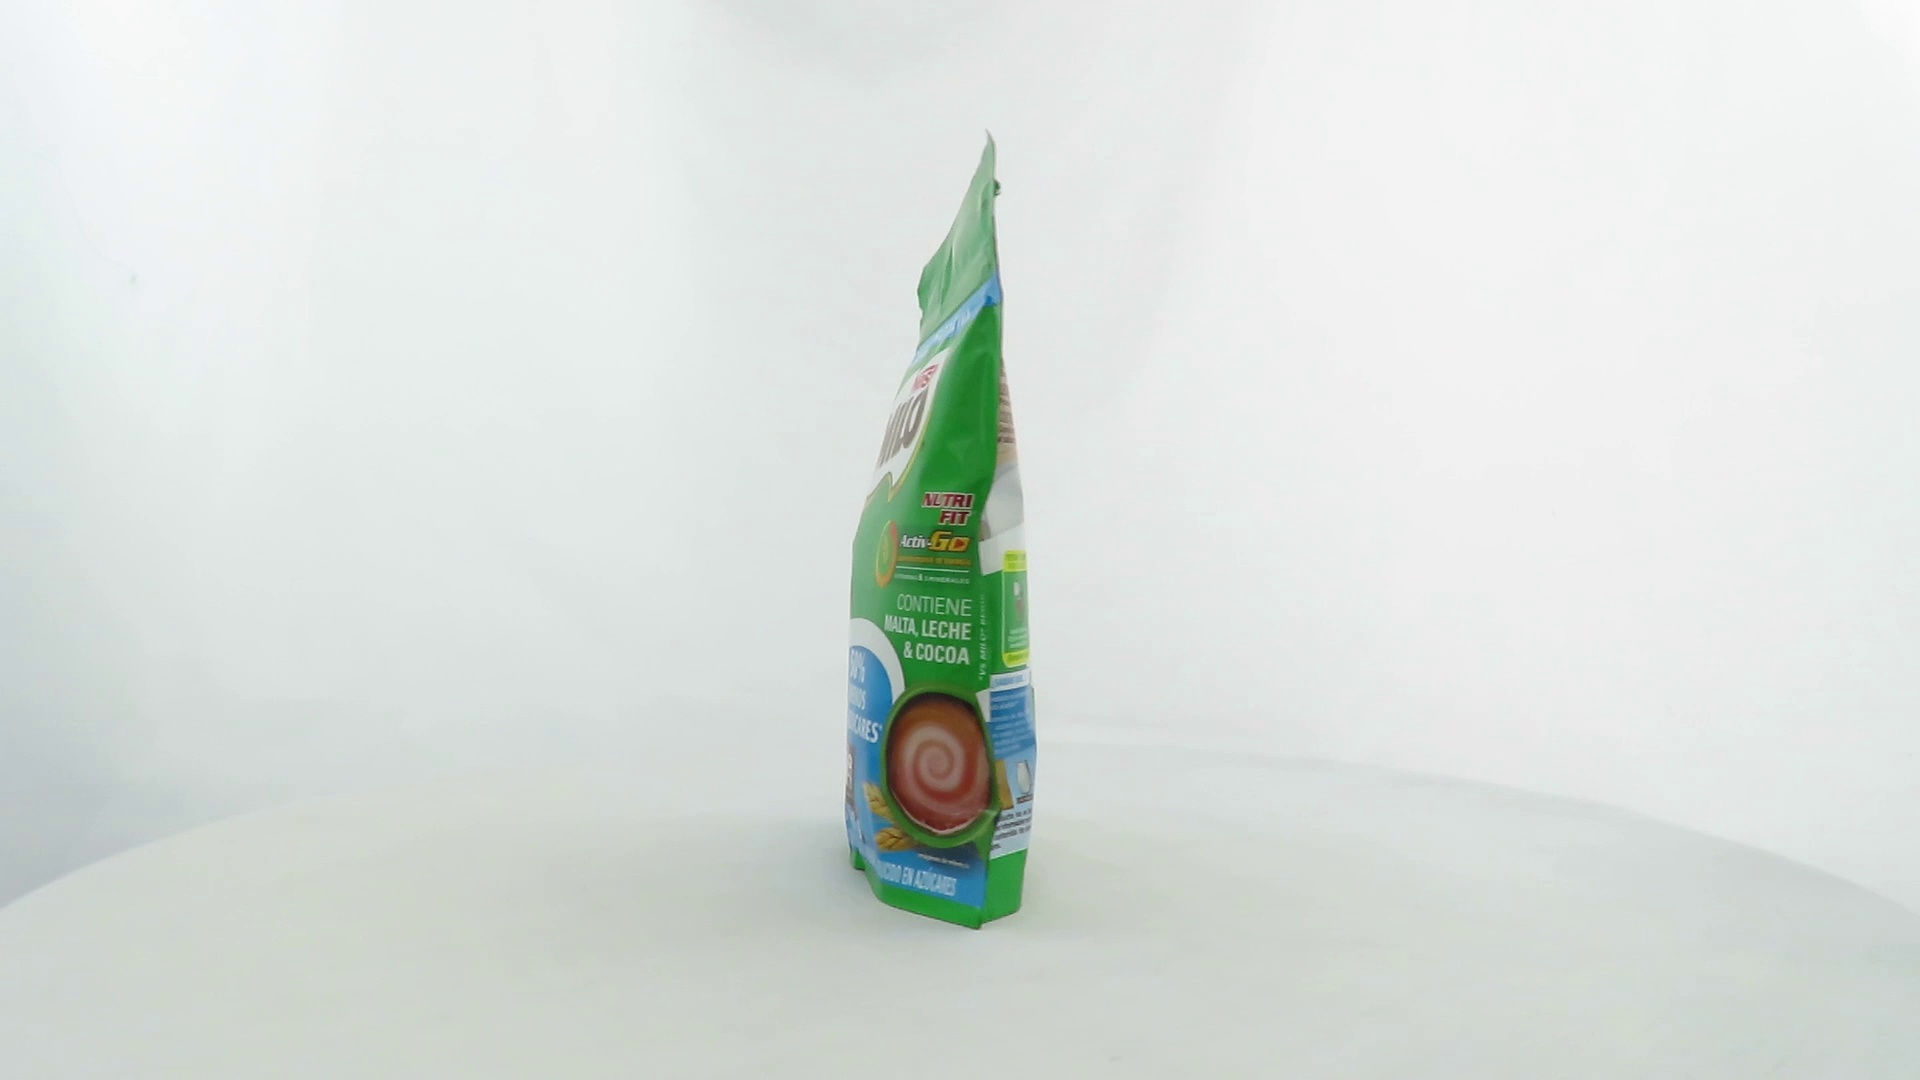COL0170205DYP20000: (839, 123, 1043, 938)
